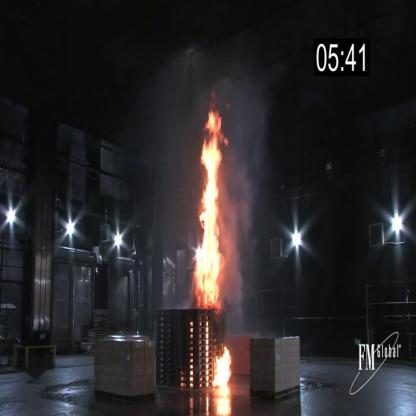fire: (192, 100, 223, 309), (209, 338, 234, 390)
